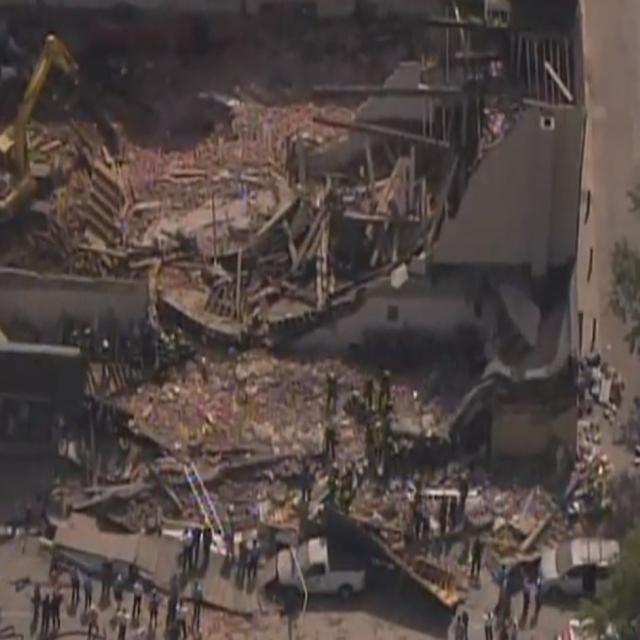collapsed_building: (66, 32, 562, 329)
